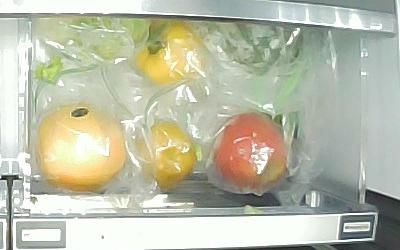apple_vinyl: (211, 111, 287, 190)
grapefruit_vinyl: (35, 103, 126, 195)
paprika_vinyl: (135, 21, 207, 86)
persimmon_vinyl: (135, 119, 195, 192)
